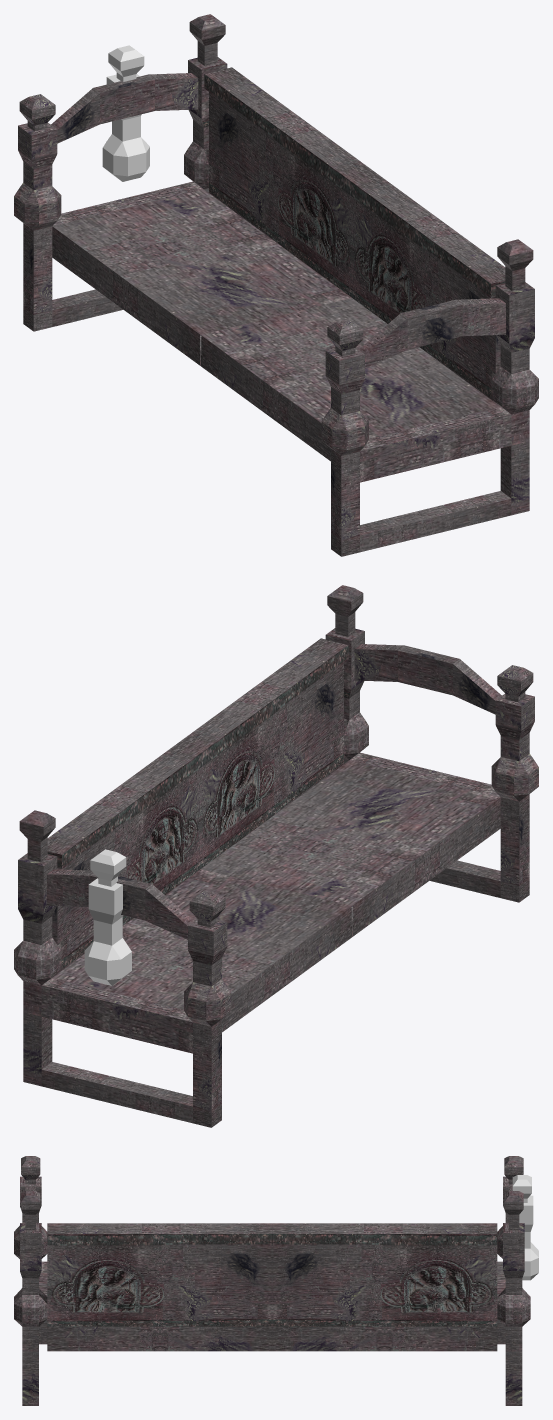
Rendered from church pew.fbx.
The picture shows the model from 3 angles, top to bottom: view 1: azimuth 30°, elevation 25°; view 2: azimuth 150°, elevation 25°; view 3: azimuth 270°, elevation 25°; orthographic projection. The views are drawn at different scales.
Parts seen in each view (by area): view 1: Arm_1, Arm; view 2: Arm_1, Arm; view 3: Arm_1, Arm.
Part boxes in pixels (left/top/right/bottom): Arm_1: left=14, top=14, right=538, bottom=556; Arm: left=102, top=45, right=149, bottom=181; Arm_1: left=14, top=585, right=538, bottom=1127; Arm: left=84, top=849, right=131, bottom=985; Arm_1: left=14, top=1156, right=530, bottom=1405; Arm: left=512, top=1175, right=538, bottom=1280.
Bounding box in the file's own units: 28.12 × 34.62 × 78.75.
Materials: 1 (1 with a texture image).
